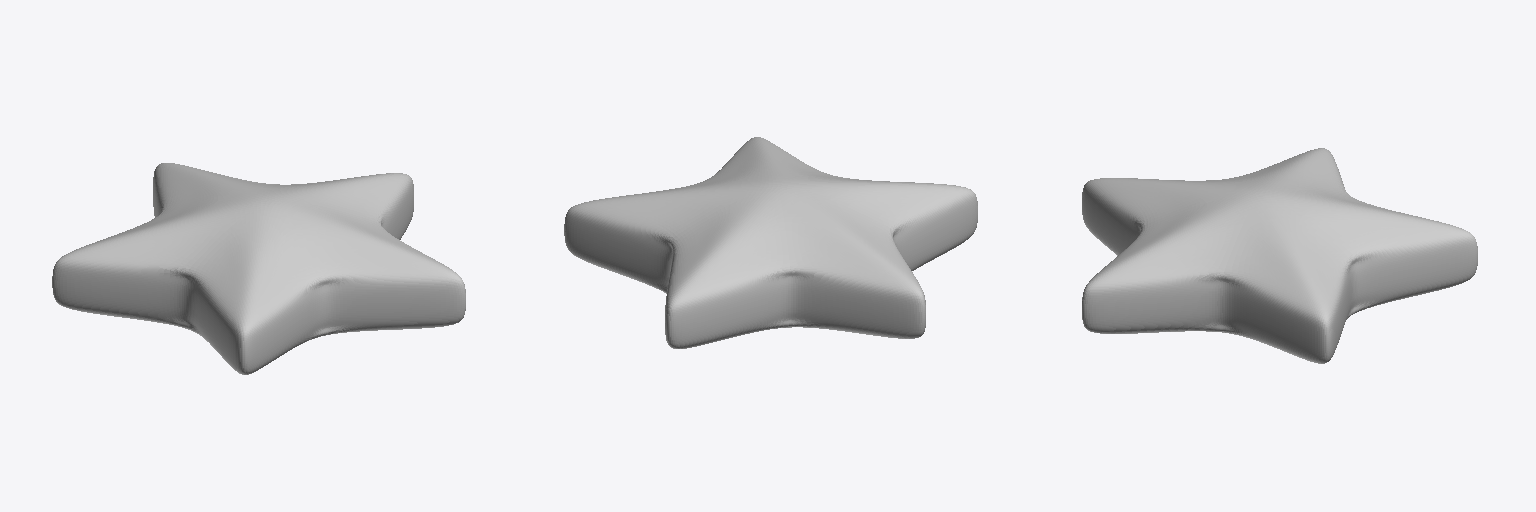
The model's file is star.obj.
3 views of the same model, side by side, from view 1: azimuth 30°, elevation 25°; view 2: azimuth 150°, elevation 25°; view 3: azimuth 270°, elevation 25° (orthographic).
Visible parts, largest first — view 1: Star_Circle; view 2: Star_Circle; view 3: Star_Circle.
Part boxes in pixels (left/top/right/bottom): Star_Circle: left=52, top=163, right=465, bottom=374; Star_Circle: left=564, top=137, right=977, bottom=348; Star_Circle: left=1082, top=148, right=1477, bottom=363.
Bounding box in the file's own units: 1.75 × 0.5717 × 1.67.